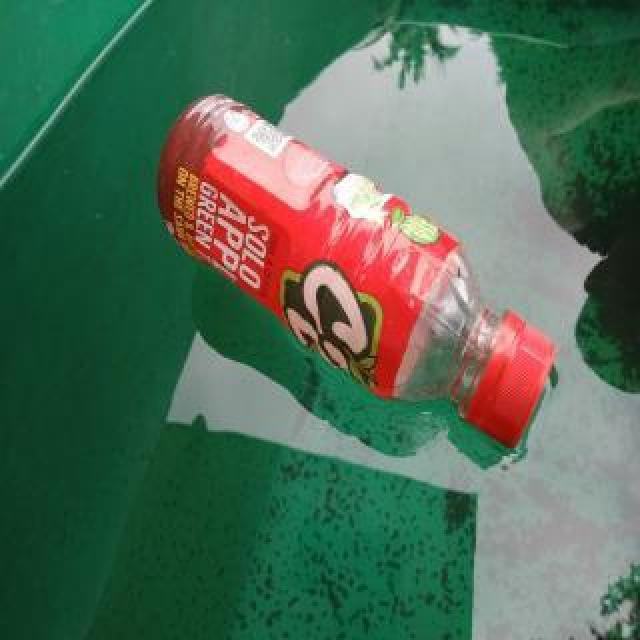bottle: (154, 90, 558, 452)
